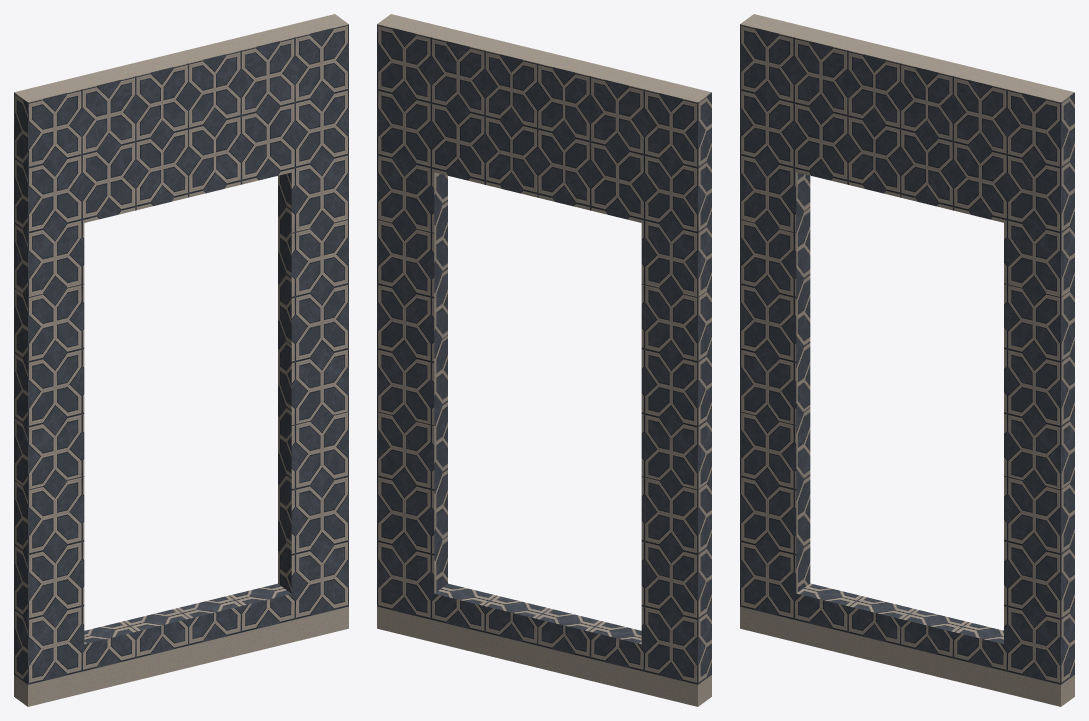
File: ARC0210044.fbx
The picture shows the model from 3 angles, left to right: view 1: azimuth 30°, elevation 25°; view 2: azimuth 150°, elevation 25°; view 3: azimuth 330°, elevation 25°; orthographic projection.
Visible parts, largest first — view 1: smARC0210044; view 2: smARC0210044; view 3: smARC0210044.
Part boxes in pixels (left/top/right/bottom): smARC0210044: left=14, top=14, right=348, bottom=706; smARC0210044: left=377, top=14, right=711, bottom=706; smARC0210044: left=740, top=14, right=1074, bottom=706.
Size of the model in its own units: 182 by 328 by 13.67.
1 material, 1 textured.
